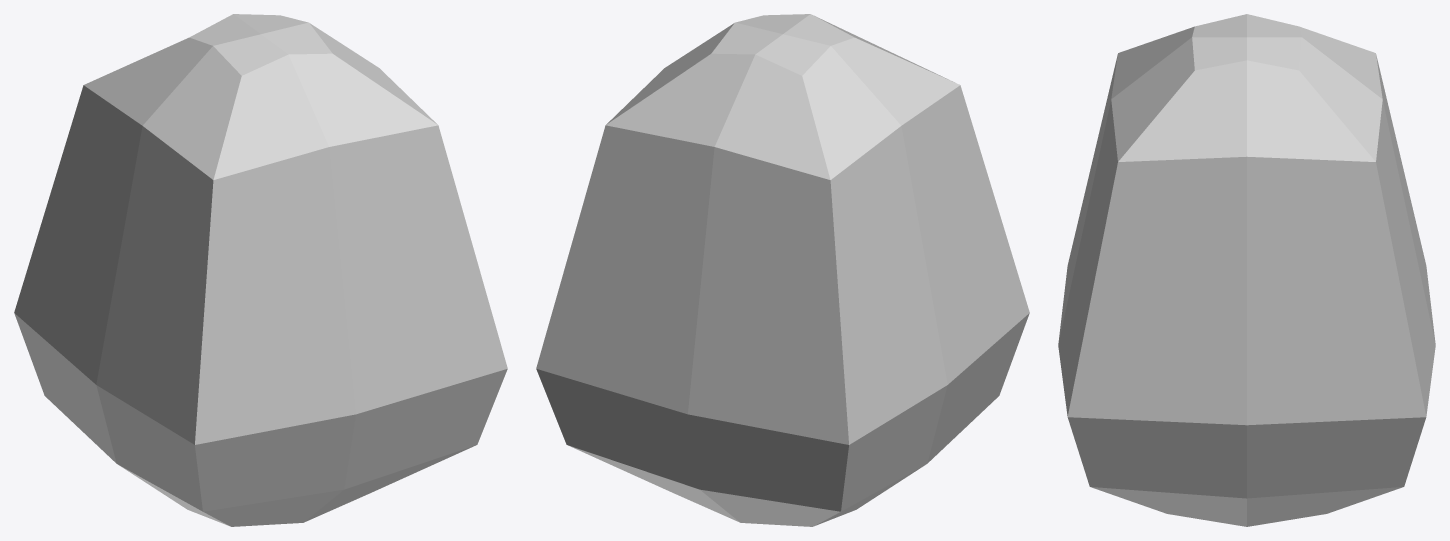
File: boiledEgg.fbx
3 renders of one model, left to right at view 1: azimuth 30°, elevation 25°; view 2: azimuth 150°, elevation 25°; view 3: azimuth 270°, elevation 25°, orthographic.
Visible parts, largest first — view 1: boiledEgg; view 2: boiledEgg; view 3: boiledEgg.
Boxes of the visible parts, x1,y1,x2,y2 form: boiledEgg: [14, 14, 507, 526]; boiledEgg: [536, 14, 1029, 526]; boiledEgg: [1058, 14, 1435, 526].
Size of the model in its own units: 7.83 by 10.4 by 7.83.
Materials: 1 (1 with a texture image).
